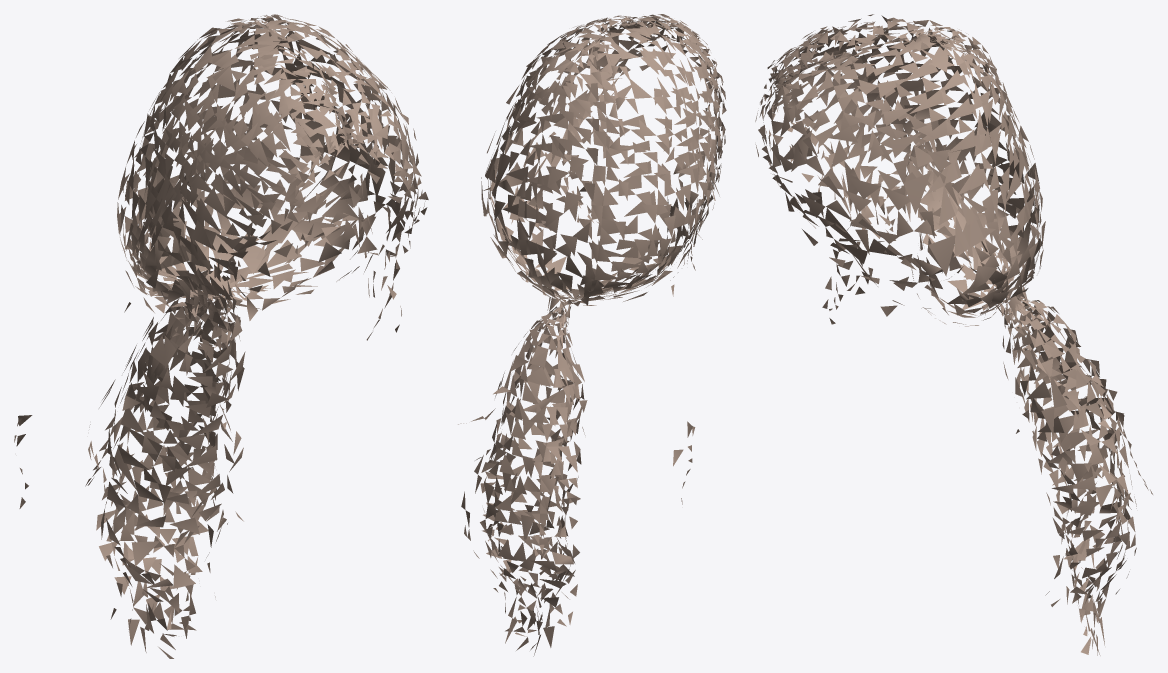
The model's file is female_hair_05_lod1.glb.
The picture shows the model from 3 angles, left to right: view 1: azimuth 30°, elevation 25°; view 2: azimuth 150°, elevation 25°; view 3: azimuth 270°, elevation 25°; orthographic projection. The views are drawn at different scales.
Parts seen in each view (by area): view 1: female-hair-05; view 2: female-hair-05; view 3: female-hair-05.
Boxes of the visible parts, x1,y1,x2,y2 form: female-hair-05: (14,14,428,658); female-hair-05: (458,14,726,656); female-hair-05: (755,14,1152,655).
Bounding box in the file's own units: 0.2682 × 0.5564 × 0.3204.
